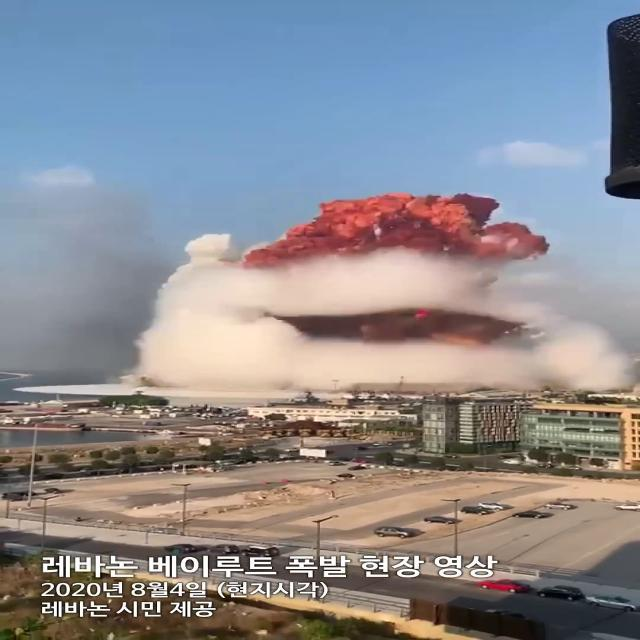explosion: (139, 186, 637, 414)
